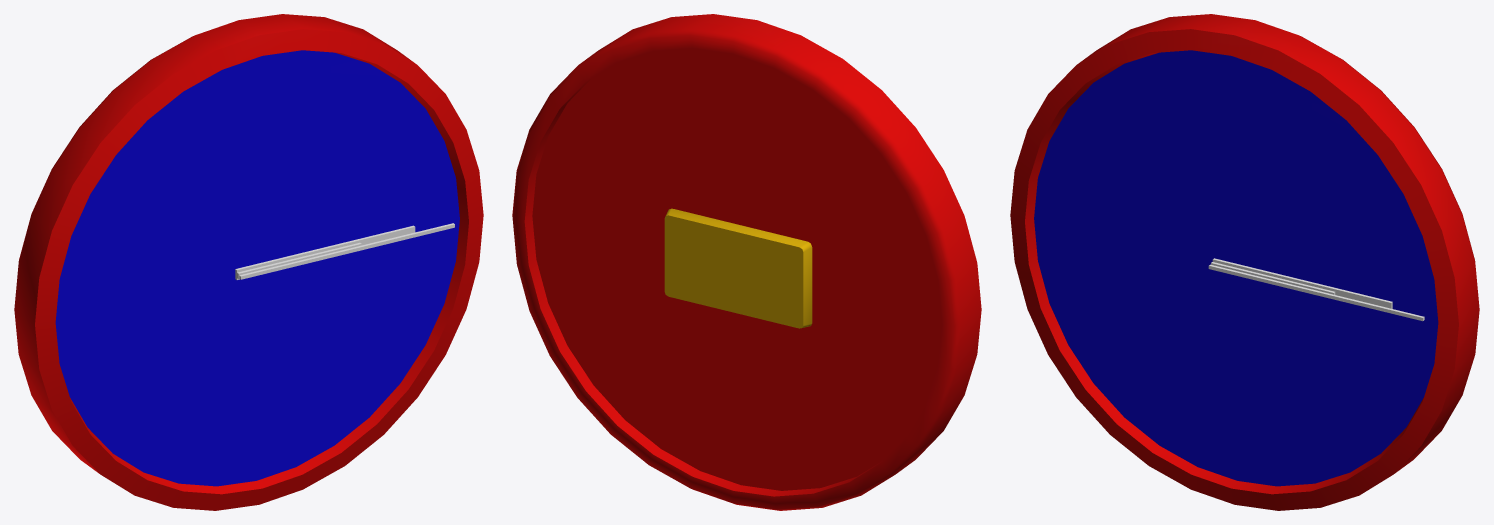
Rendered from Clock.fbx.
The picture shows the model from 3 angles, left to right: view 1: azimuth 30°, elevation 25°; view 2: azimuth 150°, elevation 25°; view 3: azimuth 330°, elevation 25°; orthographic projection.
Parts seen in each view (by area): view 1: corpse, seconds, minutes; view 2: corpse; view 3: corpse, seconds, minutes.
Part boxes in pixels (<box>): corpse: <box>14,14,483,510</box>; seconds: <box>239,223,454,279</box>; minutes: <box>235,225,415,279</box>; corpse: <box>512,14,981,510</box>; corpse: <box>1010,14,1479,510</box>; seconds: <box>1208,264,1424,321</box>; minutes: <box>1212,258,1392,308</box>.
Bounding box in the file's own units: 36.52 × 36.52 × 3.91.
